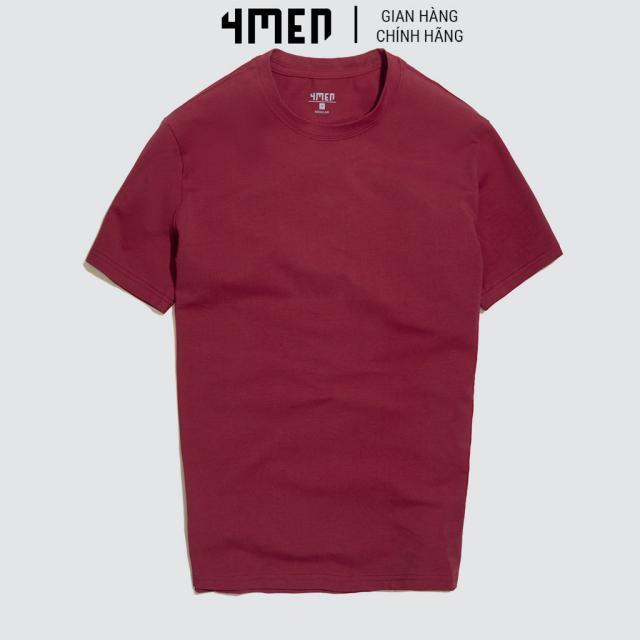Shirt: (78, 52, 565, 600)
